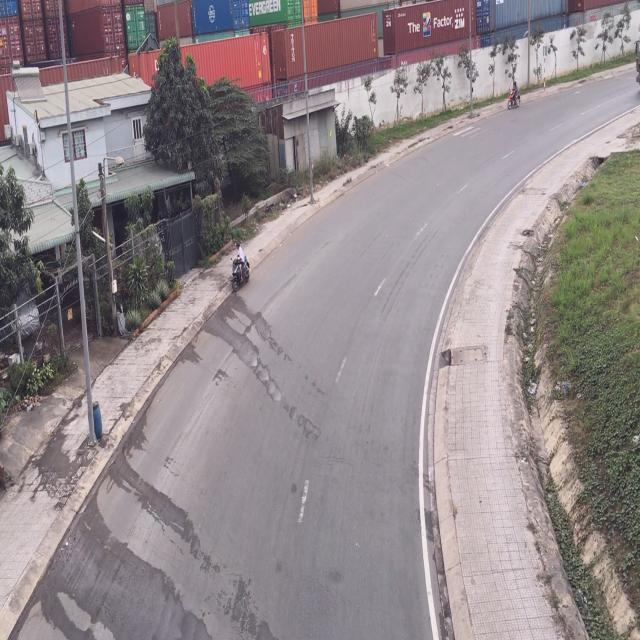motorbike: (232, 246, 250, 296), (508, 75, 522, 114)
